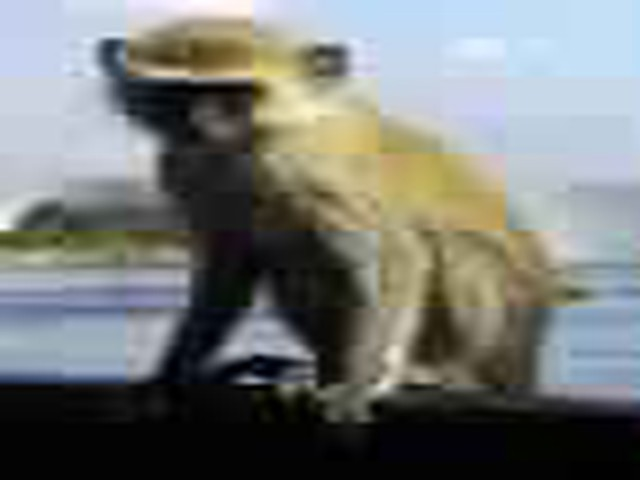Monkey: (75, 13, 588, 419)
